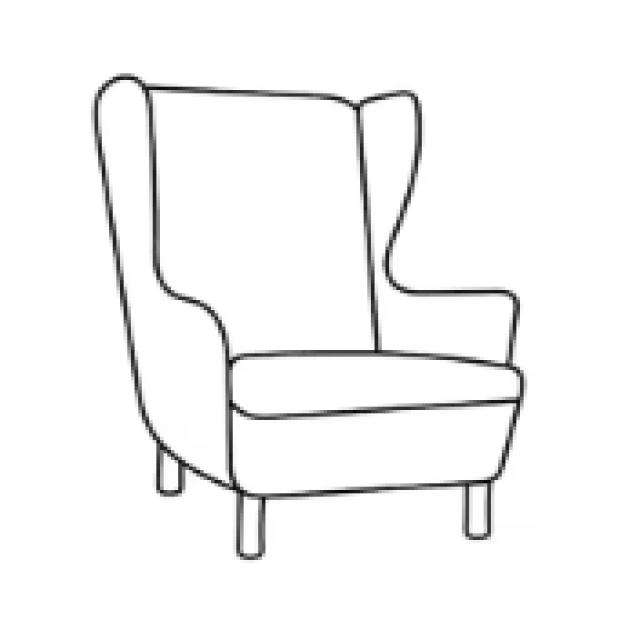Armrest: (117, 277, 241, 493), (367, 265, 522, 370)
Backrest: (140, 83, 380, 368)
Leg_Structure: (158, 445, 497, 559)
Seat: (225, 347, 528, 497)
Wing_Flange: (89, 70, 166, 282), (355, 86, 425, 266)
